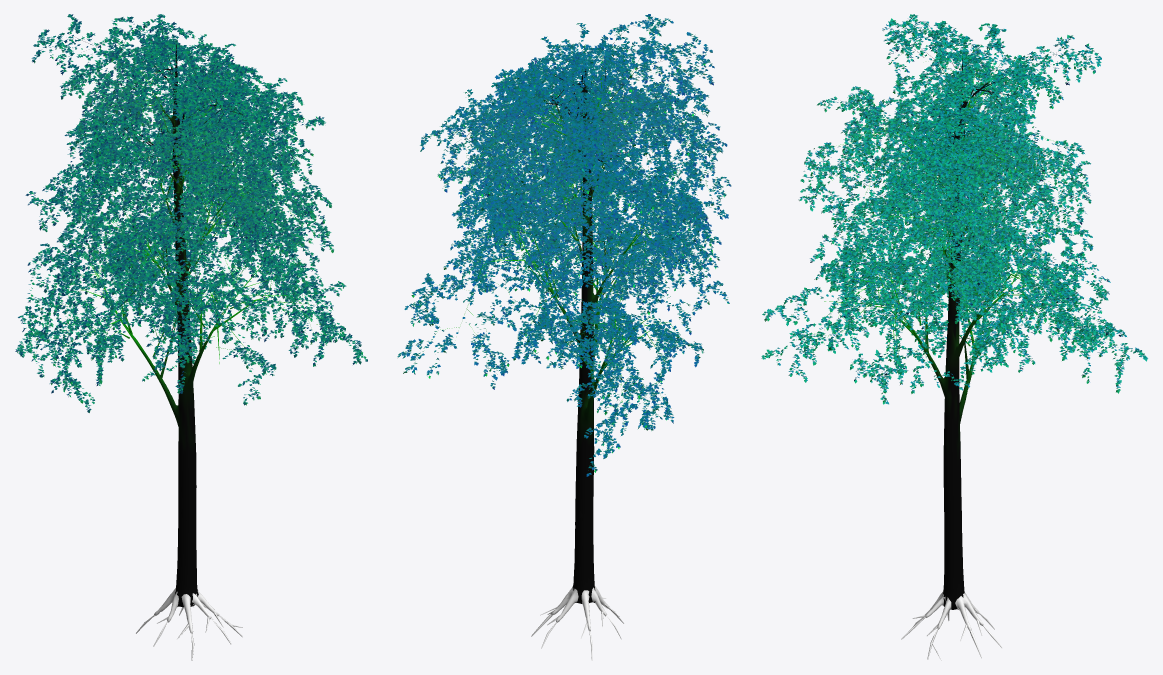
3 renders of one model, left to right at view 1: azimuth 30°, elevation 25°; view 2: azimuth 150°, elevation 25°; view 3: azimuth 270°, elevation 25°, orthographic. The views are drawn at different scales.
Visible parts, largest first — view 1: Foliage, Trunk, Twigs, Branches, Roots; view 2: Foliage, Trunk, Twigs, Roots, Branches; view 3: Foliage, Trunk, Twigs, Branches, Roots.
Part boxes in pixels (x1=…): Foliage: x1=15, y1=14, x2=367, y2=412; Trunk: x1=171, y1=65, x2=198, y2=607; Twigs: x1=34, y1=31, x2=345, y2=379; Branches: x1=116, y1=73, x2=223, y2=420; Roots: x1=154, y1=588, x2=219, y2=633; Foliage: x1=397, y1=14, x2=731, y2=476; Trunk: x1=572, y1=70, x2=595, y2=603; Twigs: x1=440, y1=27, x2=703, y2=428; Roots: x1=551, y1=586, x2=609, y2=631; Branches: x1=533, y1=81, x2=633, y2=427; Foliage: x1=761, y1=14, x2=1147, y2=404; Trunk: x1=943, y1=80, x2=966, y2=609; Twigs: x1=790, y1=27, x2=1110, y2=380; Branches: x1=900, y1=92, x2=996, y2=423; Roots: x1=923, y1=591, x2=983, y2=630.
Bounding box in the file's own units: 33731 × 41061 × 70669.
